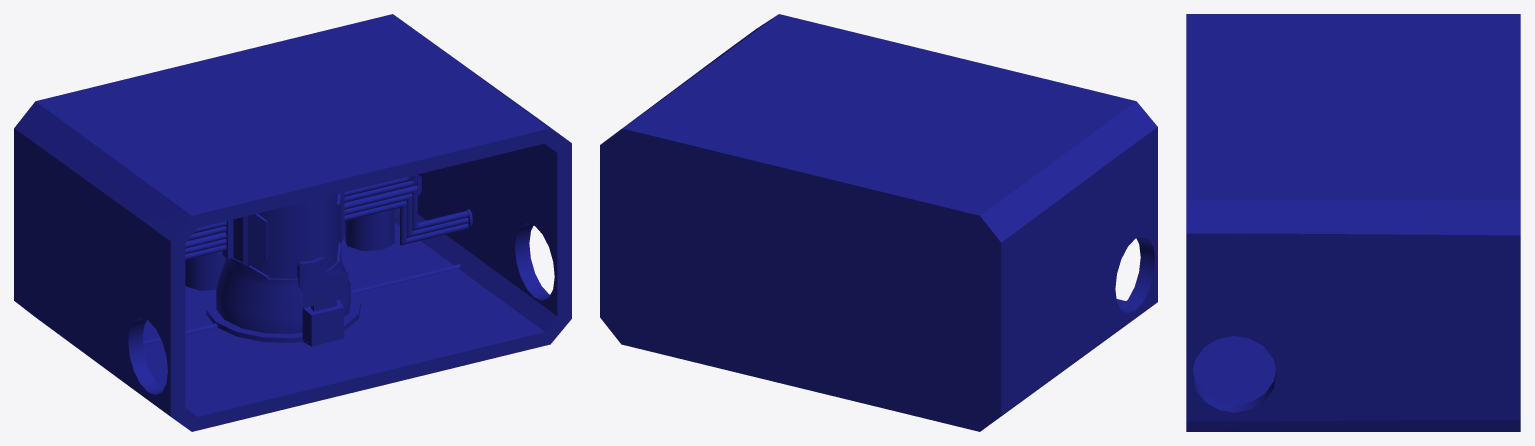
The model's file is Sala6-Oxigeno-02.fbx.
3 renders of one model, left to right at view 1: azimuth 30°, elevation 25°; view 2: azimuth 150°, elevation 25°; view 3: azimuth 270°, elevation 25°, orthographic. The views are drawn at different scales.
Visible parts, largest first — view 1: sala6, nucleo, bateria; view 2: sala6; view 3: sala6.
Boxes of the visible parts, left/top/right/bottom form: sala6: left=14, top=14, right=571, bottom=431; nucleo: left=143, top=174, right=472, bottom=346; bateria: left=185, top=209, right=394, bottom=290; sala6: left=600, top=14, right=1157, bottom=431; sala6: left=1186, top=14, right=1520, bottom=431.
Bounding box in the file's own units: 1310 × 674 × 885.
